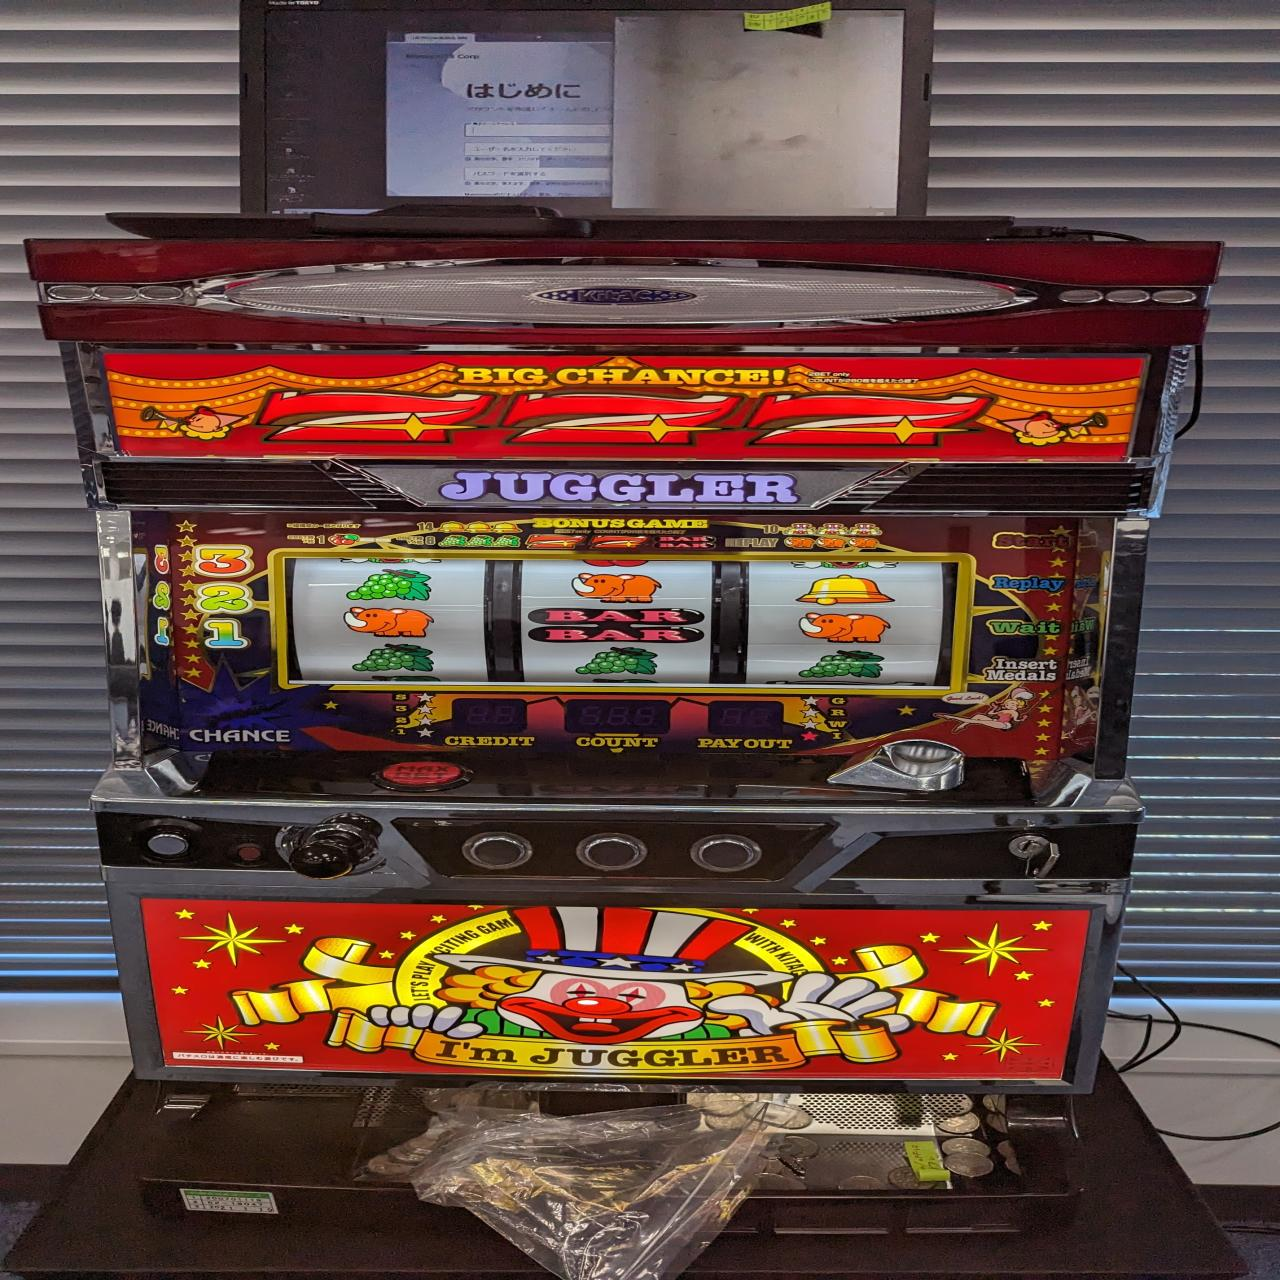Display: (280, 552, 953, 690)
bar: (524, 606, 708, 645)
bell: (794, 573, 897, 607)
grape: (346, 567, 433, 605), (796, 649, 886, 680), (573, 646, 661, 676), (349, 642, 437, 673)
rhino: (796, 611, 894, 646), (567, 571, 663, 606), (341, 607, 436, 638)
